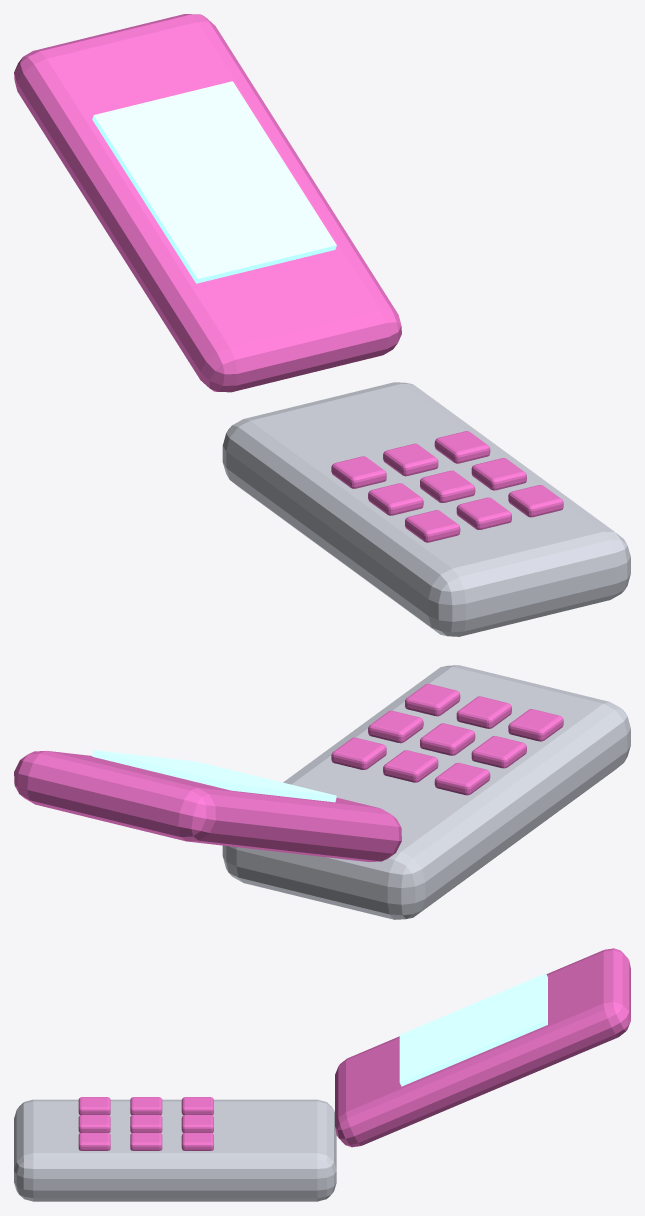
The model's file is Trash_FlipPhone.fbx.
3 views of the same model, one above another, from view 1: azimuth 30°, elevation 25°; view 2: azimuth 150°, elevation 25°; view 3: azimuth 270°, elevation 25° (orthographic). The views are drawn at different scales.
Parts seen in each view (by area): view 1: Trash_FlipPhone; view 2: Trash_FlipPhone; view 3: Trash_FlipPhone.
Boxes of the visible parts, x1,y1,x2,y2 form: Trash_FlipPhone: [14, 14, 630, 636]; Trash_FlipPhone: [14, 665, 630, 919]; Trash_FlipPhone: [14, 948, 630, 1201].
Size of the model in its own units: 0.05 by 0.0677 by 0.1912.
